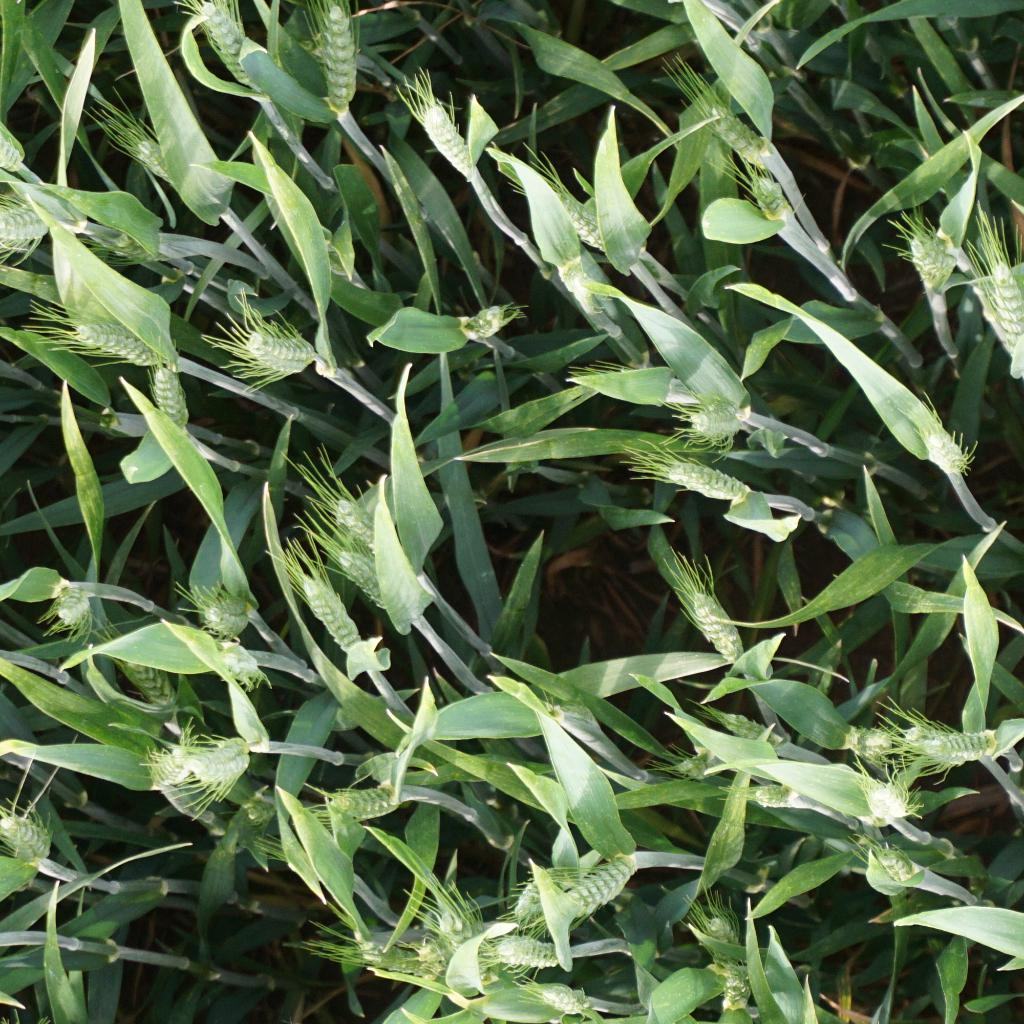0-0: (195, 0, 267, 89), (290, 565, 359, 656), (311, 2, 366, 113), (549, 850, 635, 916), (698, 912, 754, 1006), (710, 100, 780, 167), (545, 184, 613, 250), (109, 634, 171, 706), (418, 98, 473, 178), (656, 460, 749, 507), (693, 588, 743, 673), (73, 318, 162, 365), (188, 737, 256, 796), (208, 638, 273, 694), (325, 498, 385, 558), (345, 941, 444, 977), (910, 723, 999, 763), (992, 248, 1024, 359), (325, 547, 387, 601), (904, 233, 958, 291), (491, 927, 565, 969), (0, 807, 50, 864), (327, 787, 413, 819), (152, 363, 190, 435), (244, 336, 314, 374), (435, 906, 482, 957), (131, 126, 176, 179), (690, 396, 745, 439), (749, 171, 792, 225), (138, 751, 196, 791), (920, 427, 970, 473), (0, 204, 55, 245), (193, 588, 245, 631), (528, 977, 586, 1014), (860, 783, 913, 823), (515, 866, 546, 930), (866, 852, 922, 886), (109, 230, 165, 263), (674, 742, 717, 784), (559, 267, 600, 311), (50, 586, 92, 627), (743, 777, 796, 807), (0, 109, 22, 175), (467, 306, 504, 342), (858, 728, 897, 762), (723, 715, 768, 741), (412, 939, 457, 961), (247, 798, 279, 821), (346, 918, 372, 940)
